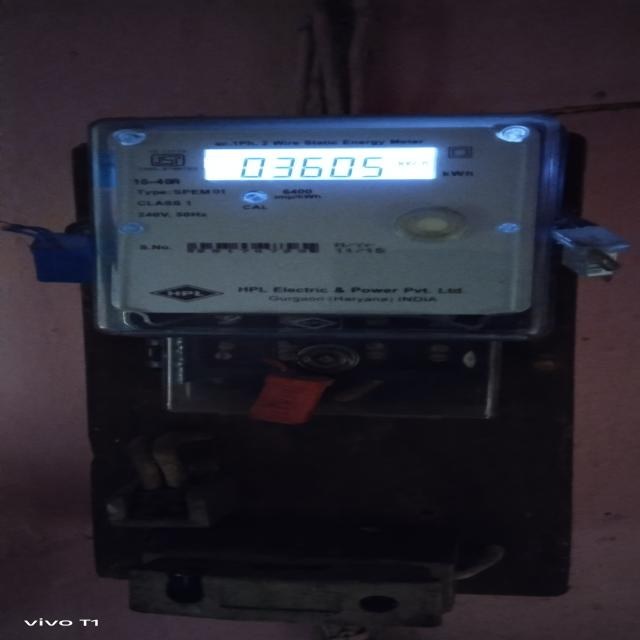display: (182, 143, 445, 184)
